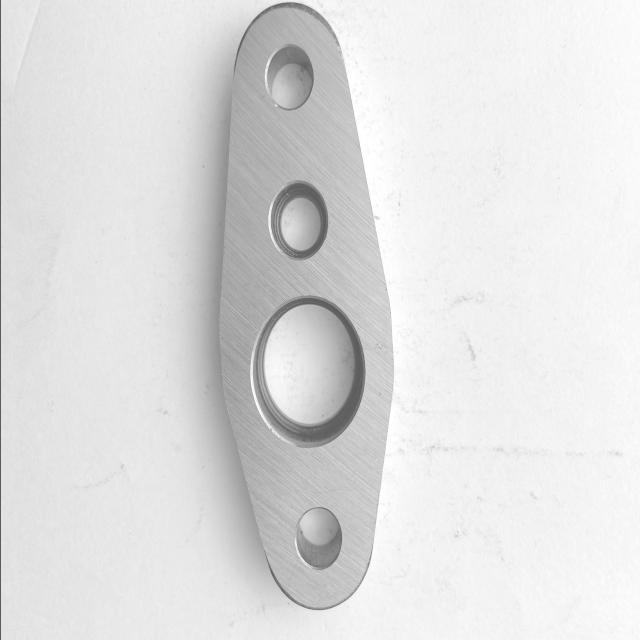chap: (326, 236, 338, 246), (230, 138, 235, 149)
lines: (312, 484, 356, 496)
